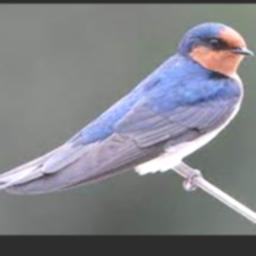Swallow: (0, 23, 252, 196)
